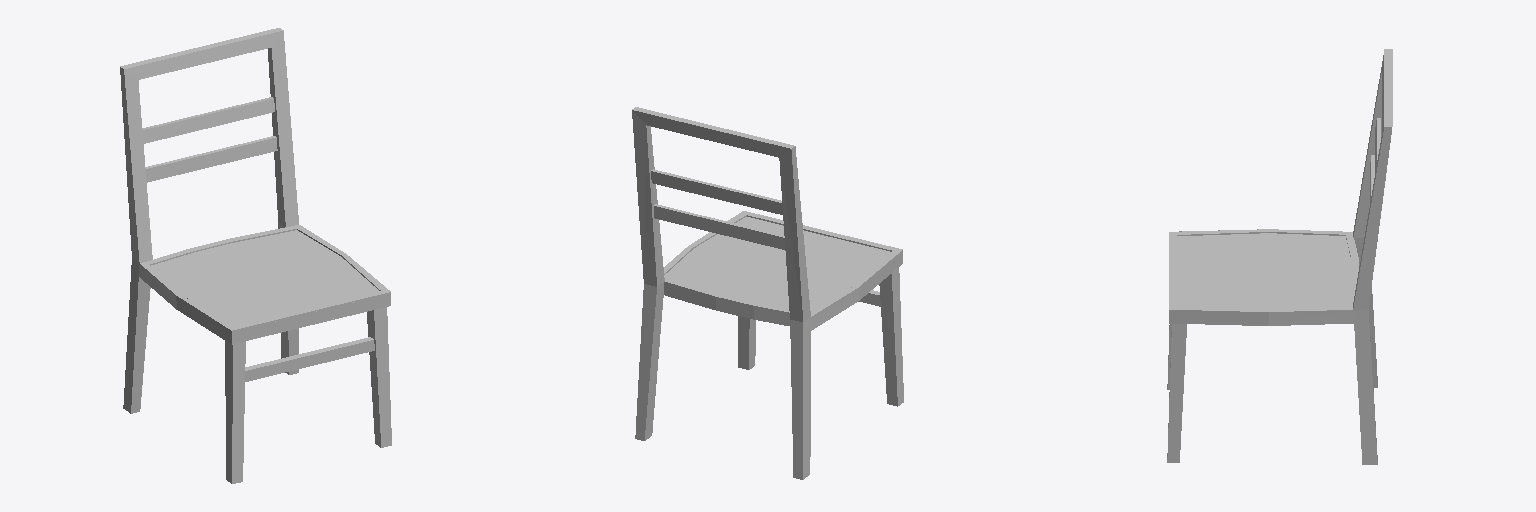
File: Chair06.obj
3 views of the same model, side by side, from view 1: azimuth 30°, elevation 25°; view 2: azimuth 150°, elevation 25°; view 3: azimuth 270°, elevation 25° (orthographic).
Visible parts, largest first — view 1: Chair06_LOD0_Chair2.002; view 2: Chair06_LOD0_Chair2.002; view 3: Chair06_LOD0_Chair2.002.
Boxes of the visible parts, x1,y1,x2,y2 form: Chair06_LOD0_Chair2.002: [120, 28, 391, 483]; Chair06_LOD0_Chair2.002: [632, 107, 903, 479]; Chair06_LOD0_Chair2.002: [1167, 49, 1392, 464].
Bounding box in the file's own units: 0.509 × 0.9591 × 0.5834.